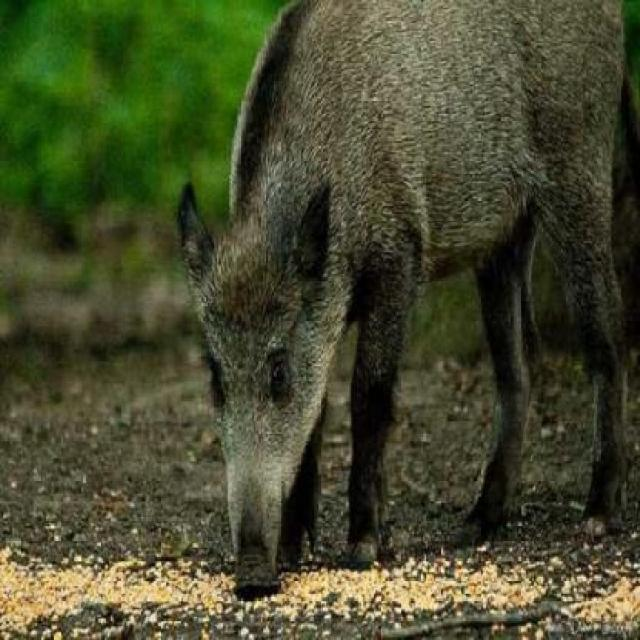pig: (162, 11, 639, 586)
